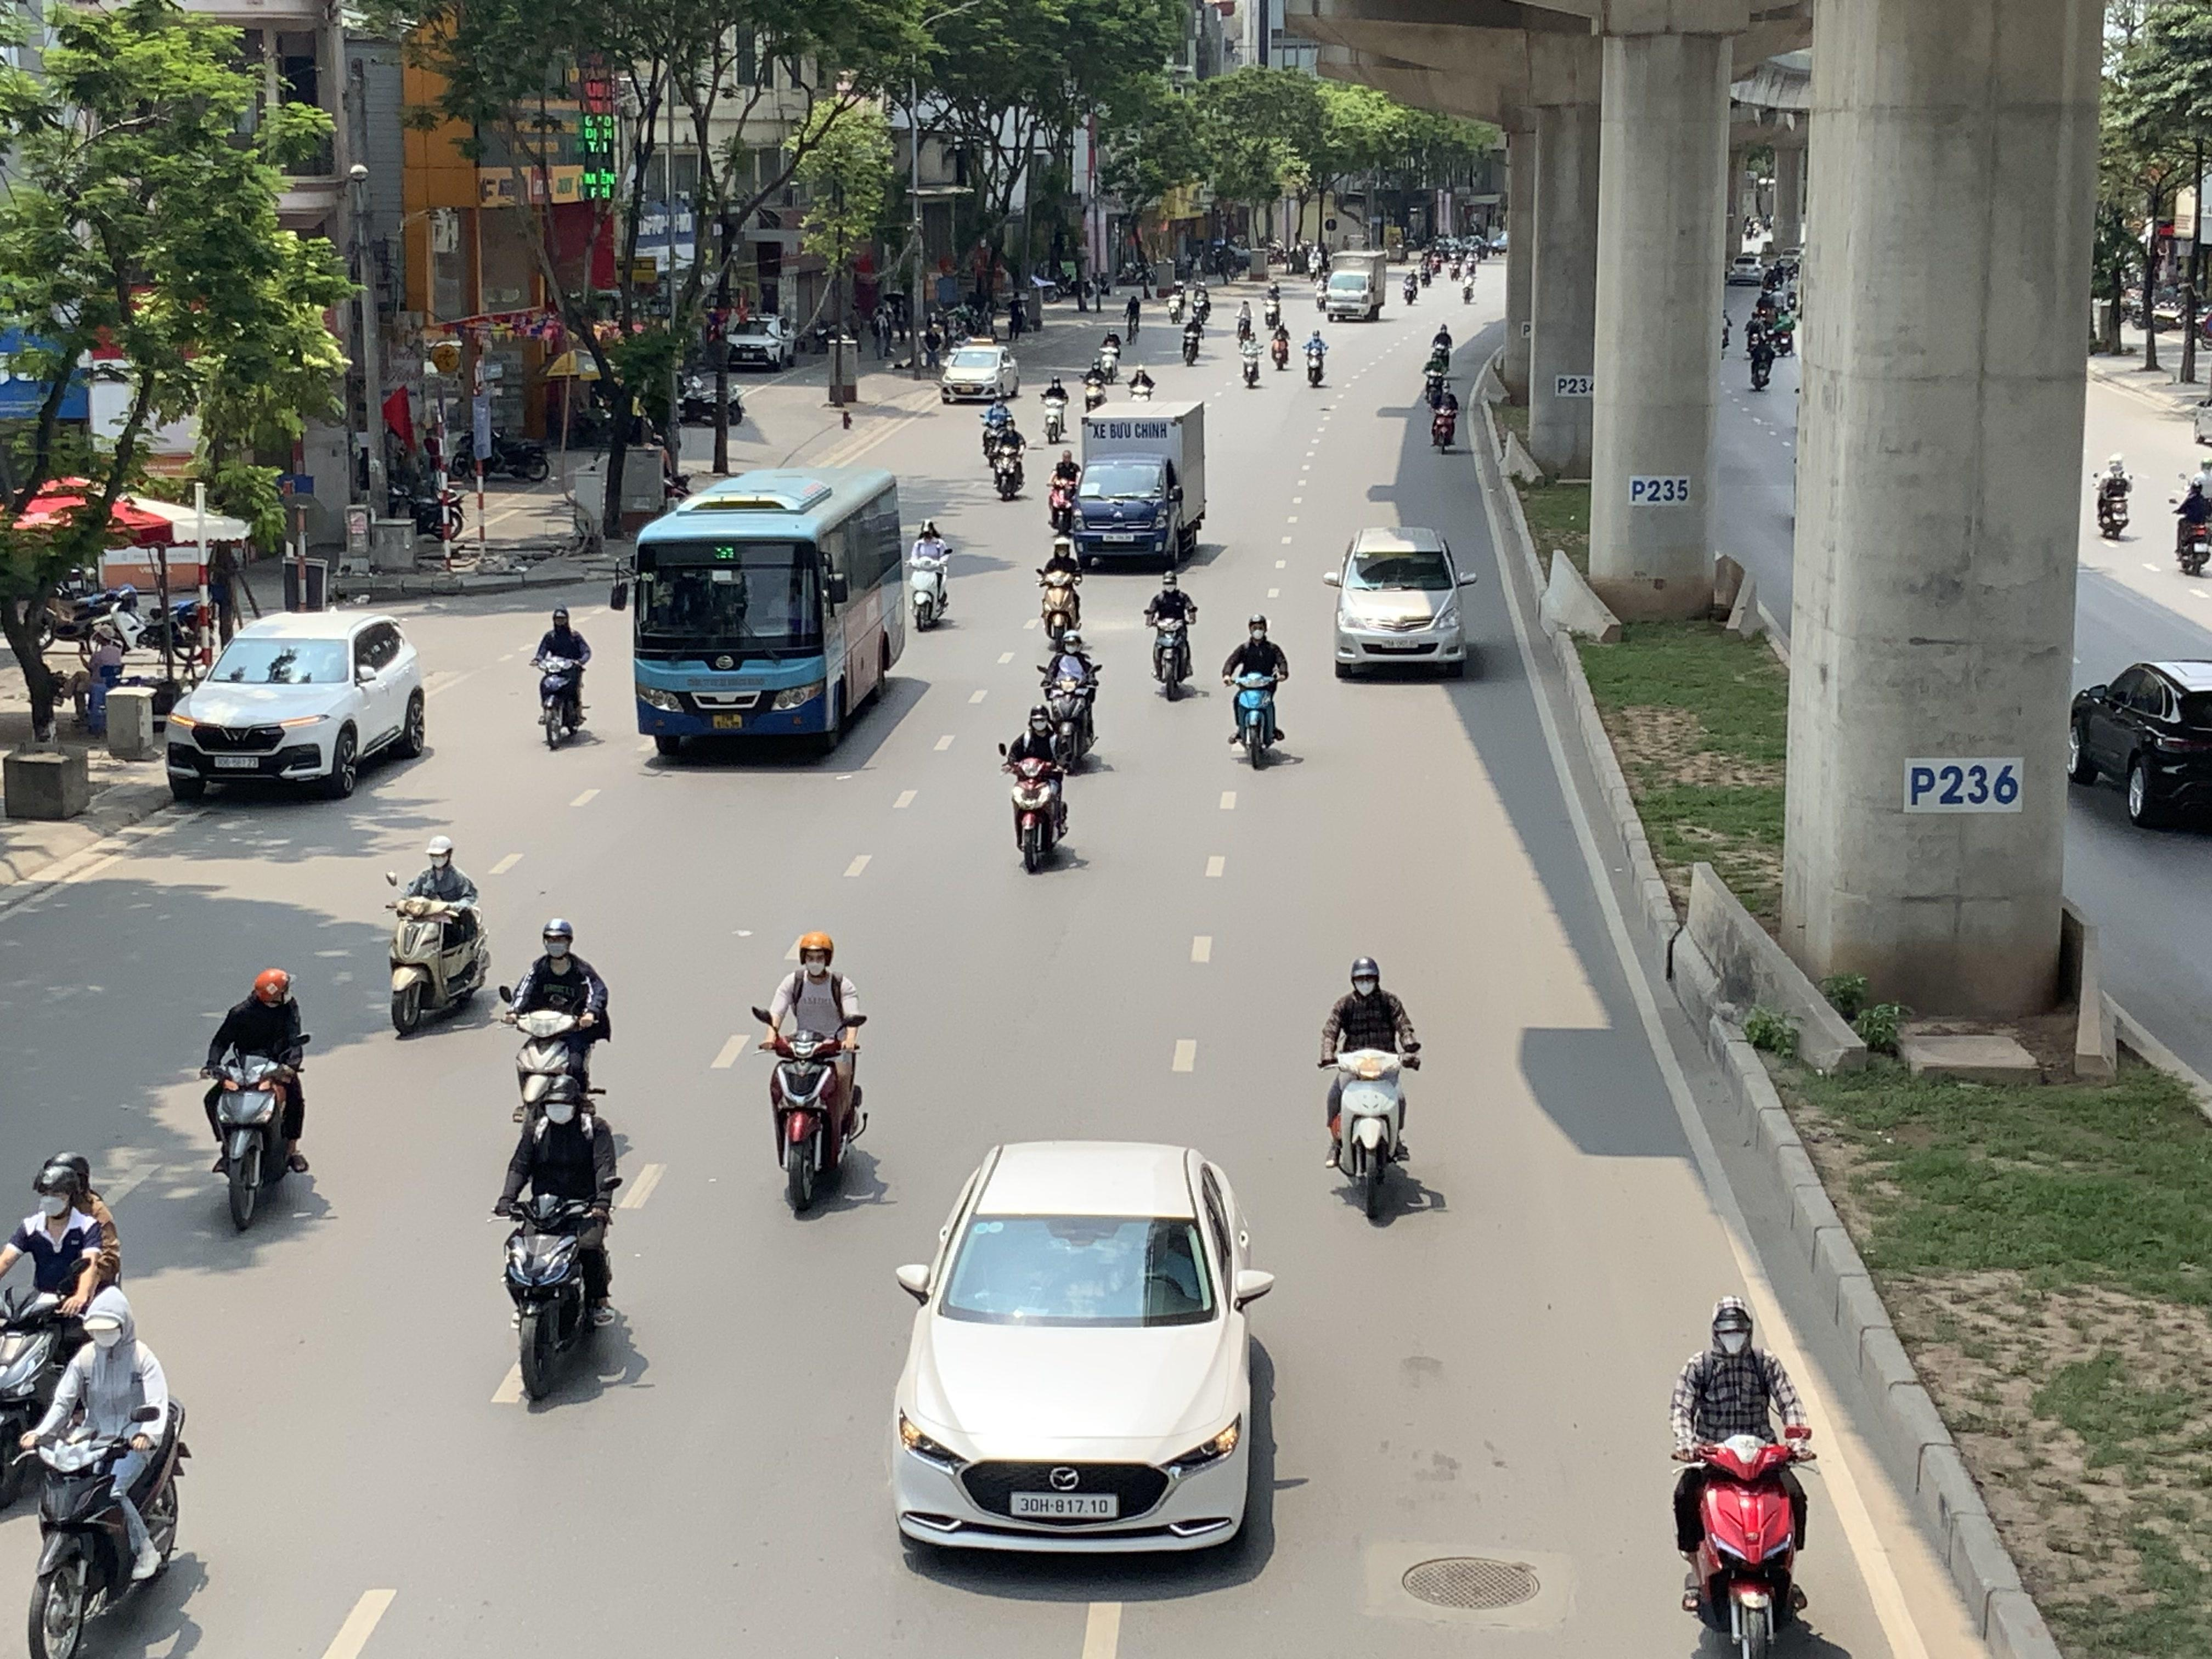BSD: (1010, 1492, 1118, 1518), (214, 755, 260, 769)
bus: (625, 465, 907, 756)
car: (890, 1138, 1277, 1565), (164, 608, 430, 800), (2069, 657, 2212, 833), (1322, 526, 1477, 680), (939, 340, 1021, 403), (725, 315, 796, 371)
motorbike: (21, 1281, 192, 1659), (1669, 1297, 1818, 1659), (495, 1060, 629, 1413), (0, 1152, 122, 1509), (752, 929, 869, 1220), (202, 965, 312, 1234), (1320, 955, 1420, 1227), (503, 917, 611, 1131), (385, 835, 491, 1039), (1001, 701, 1073, 875), (1223, 615, 1291, 770), (1038, 629, 1104, 770), (533, 606, 594, 749), (1144, 568, 1198, 701), (906, 518, 954, 631), (1036, 538, 1085, 647), (2172, 471, 2212, 577), (2094, 453, 2134, 538), (989, 420, 1028, 502), (1045, 448, 1082, 533), (1428, 378, 1460, 453), (1040, 373, 1069, 443), (1090, 322, 1122, 387), (1080, 352, 1111, 413), (1179, 301, 1207, 366), (1237, 319, 1261, 389), (1426, 322, 1454, 380), (1303, 326, 1329, 387), (1268, 319, 1294, 371), (1125, 362, 1157, 403)
truck: (1069, 401, 1209, 572), (1322, 247, 1388, 321)
